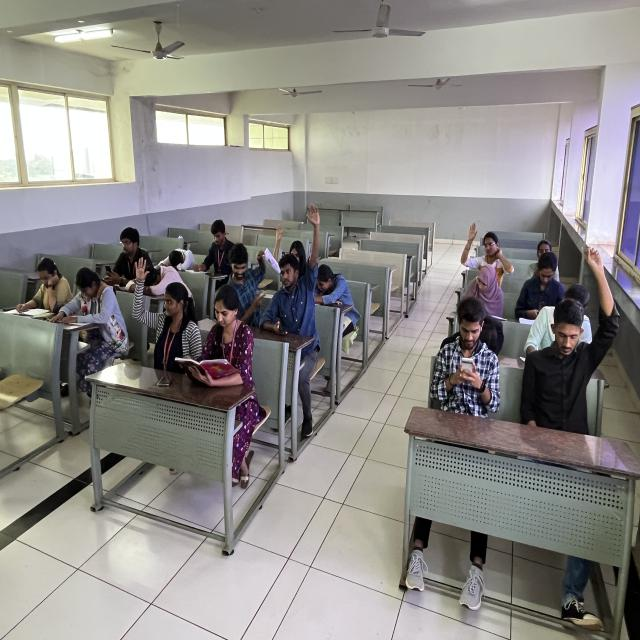Hand Rising: (520, 256, 626, 415), (259, 210, 333, 330), (128, 256, 205, 359), (460, 217, 522, 286), (269, 219, 320, 288)
Reading: (168, 280, 268, 392), (65, 268, 126, 348), (17, 260, 75, 321)
Sleeping: (450, 303, 522, 360), (133, 252, 190, 300), (158, 238, 206, 279)
Using Phone: (433, 304, 508, 401), (515, 255, 572, 318), (97, 232, 157, 290)
Writing: (515, 291, 600, 358), (192, 222, 245, 283)
